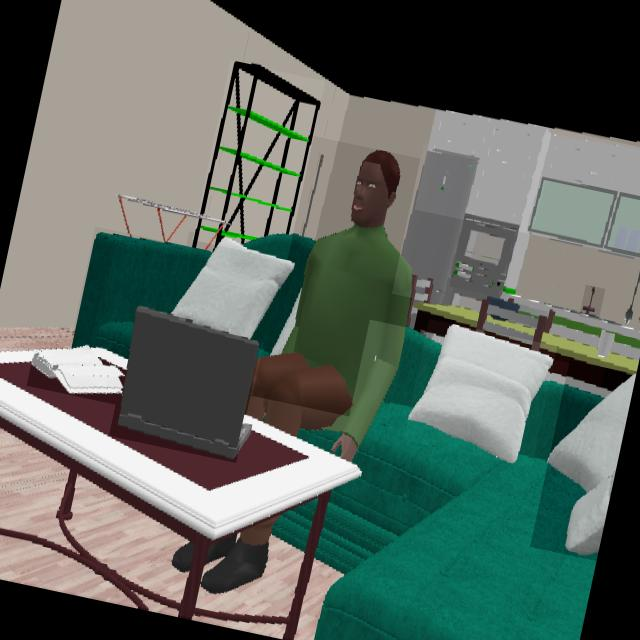cabinet: (427, 110, 640, 257)
fridge: (400, 146, 480, 302)
laptop: (117, 310, 258, 460), (30, 347, 122, 396)
microwave: (451, 213, 519, 296)
person: (249, 151, 413, 458)
pillow: (407, 324, 553, 464), (549, 374, 635, 556), (170, 239, 294, 339)
shelf: (197, 63, 319, 245)
sink: (580, 286, 598, 320)
sofa: (312, 330, 602, 640), (69, 235, 209, 357)
table: (0, 350, 361, 640)
